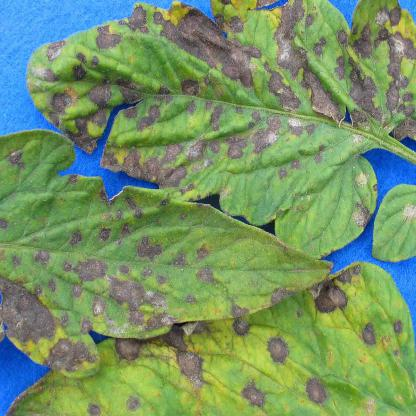tomato septoria leaf spot: (19, 9, 416, 262), (0, 121, 343, 379), (7, 247, 401, 416)
